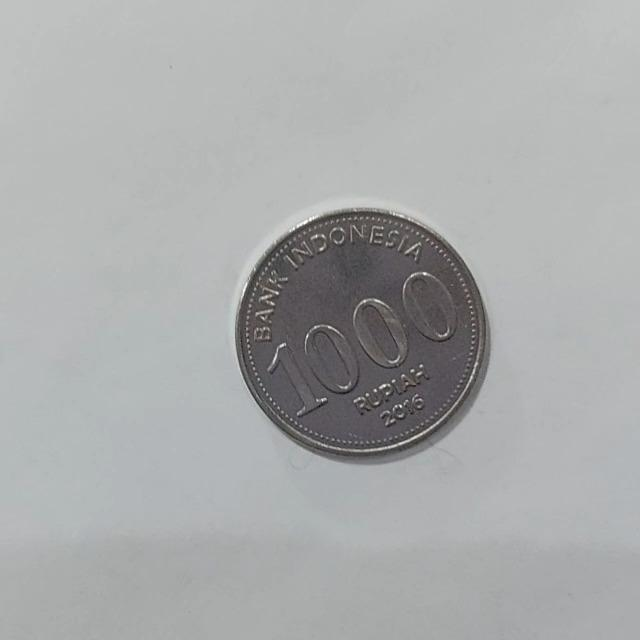Rp100: (231, 201, 490, 463)
